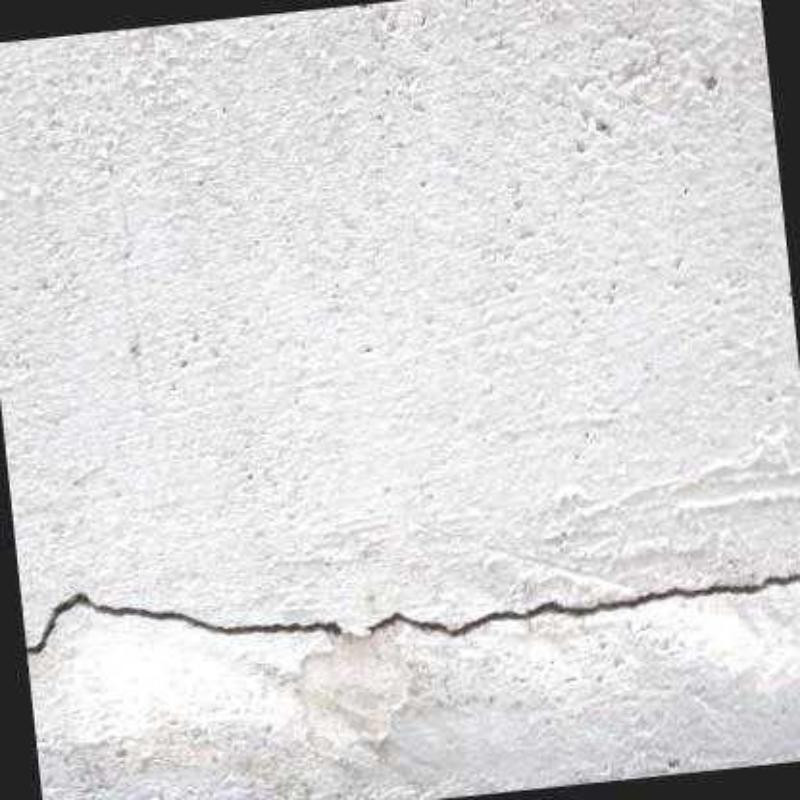pothole: (23, 569, 800, 654)
